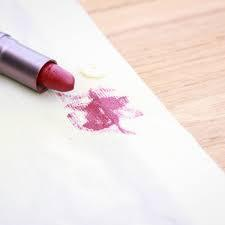kimchi: (57, 89, 145, 139)
